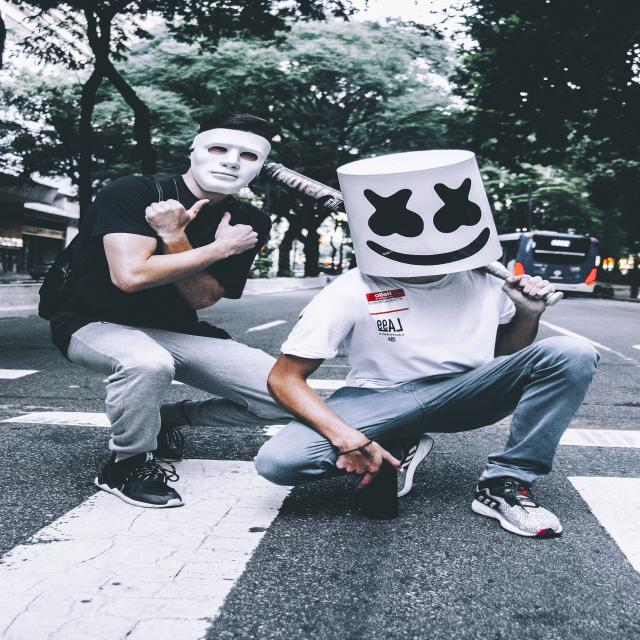adult: (258, 148, 591, 536), (48, 116, 302, 510)
